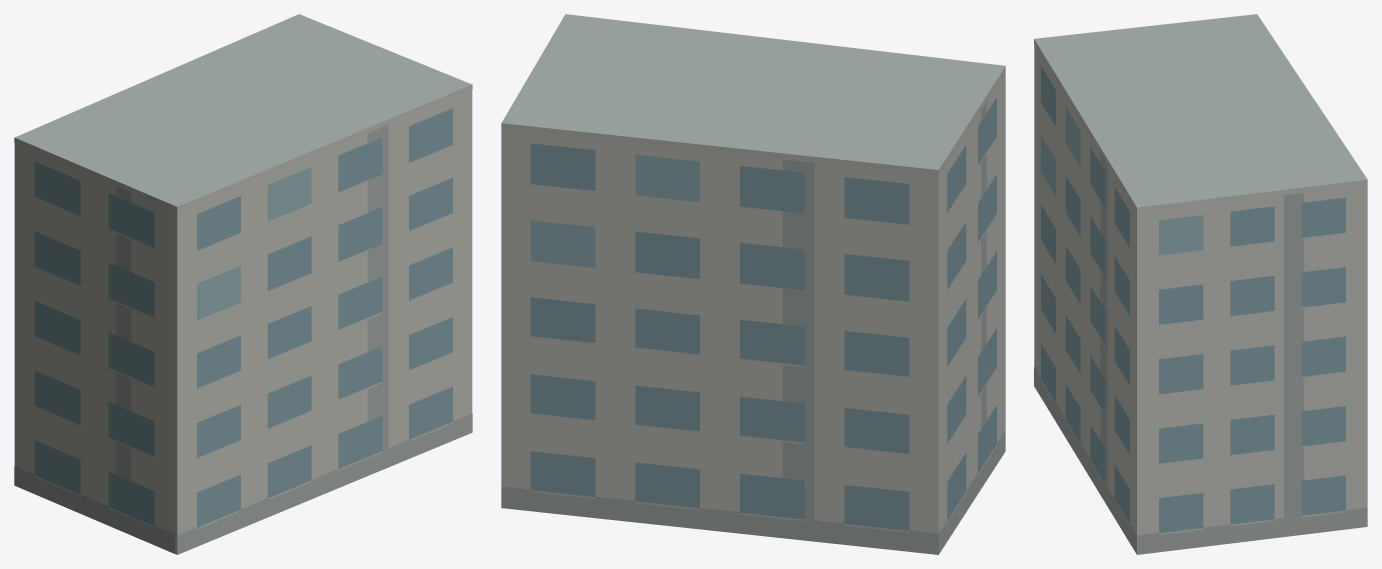
Rendered from survey-upis-32561258.glb.
3 renders of one model, left to right at view 1: azimuth 30°, elevation 25°; view 2: azimuth 150°, elevation 25°; view 3: azimuth 270°, elevation 25°, orthographic. The views are drawn at different scales.
Visible parts, largest first — view 1: survey-upis-32561258.tmp; view 2: survey-upis-32561258.tmp; view 3: survey-upis-32561258.tmp.
Boxes of the visible parts, x1,y1,x2,y2 form: survey-upis-32561258.tmp: [14, 14, 472, 554]; survey-upis-32561258.tmp: [501, 14, 1005, 554]; survey-upis-32561258.tmp: [1034, 14, 1367, 554].
Bounding box in the file's own units: 18.6 × 15.55 × 13.55.
